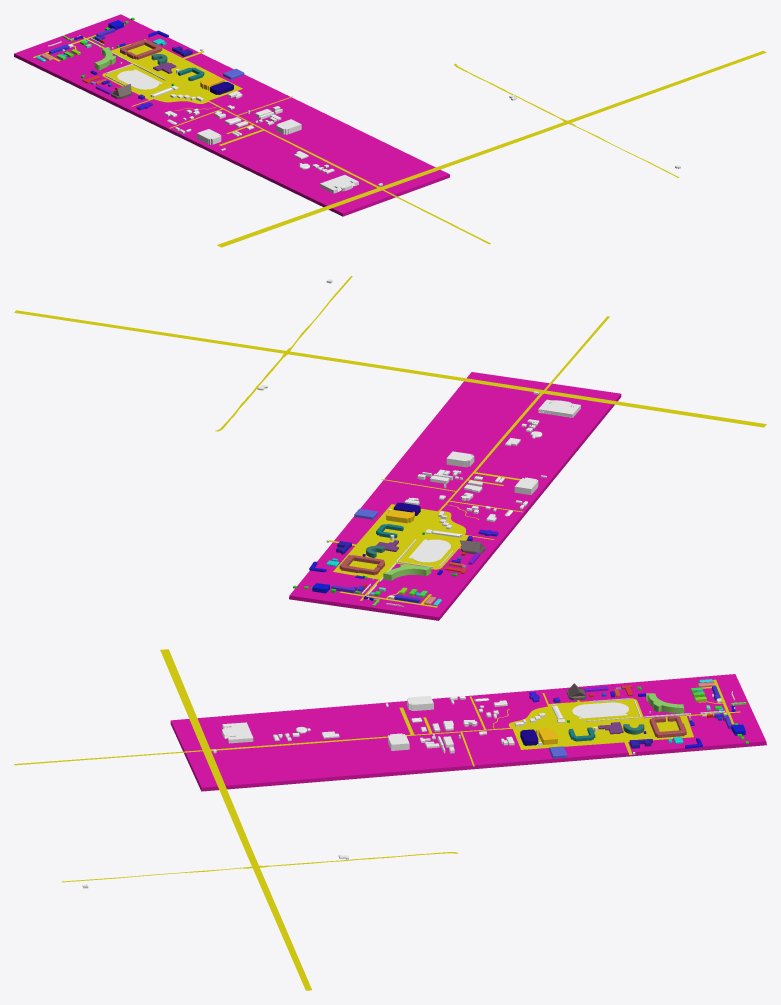
Rendered from 3d-map-daw.glb.
The picture shows the model from 3 angles, top to bottom: view 1: azimuth 30°, elevation 25°; view 2: azimuth 150°, elevation 25°; view 3: azimuth 270°, elevation 25°; orthographic projection. The views are drawn at different scales.
Visible parts, largest first — view 1: Cube, Road_Test, STATE-OF-THE_ART_SPORTS_COMPLEX001, SCHOOL_OF_MEDICINE_(_UNDER_CONS_), BATOK_HALL; view 2: Cube, Road_Test, STATE-OF-THE_ART_SPORTS_COMPLEX001; view 3: Cube, Road_Test, STATE-OF-THE_ART_SPORTS_COMPLEX001.
Part boxes in pixels (<box>): Cube: <box>14,14,449,216</box>; Road_Test: <box>33,35,766,247</box>; STATE-OF-THE_ART_SPORTS_COMPLEX001: <box>117,69,162,89</box>; SCHOOL_OF_MEDICINE_(_UNDER_CONS_): <box>320,174,358,193</box>; BATOK_HALL: <box>120,39,162,59</box>; Cube: <box>289,372,621,620</box>; Road_Test: <box>14,276,766,607</box>; STATE-OF-THE_ART_SPORTS_COMPLEX001: <box>408,539,450,562</box>; Cube: <box>170,674,766,791</box>; Road_Test: <box>14,649,740,990</box>; STATE-OF-THE_ART_SPORTS_COMPLEX001: <box>572,702,628,718</box>.
Size of the model in its own units: 1995 by 35.84 by 1859.
